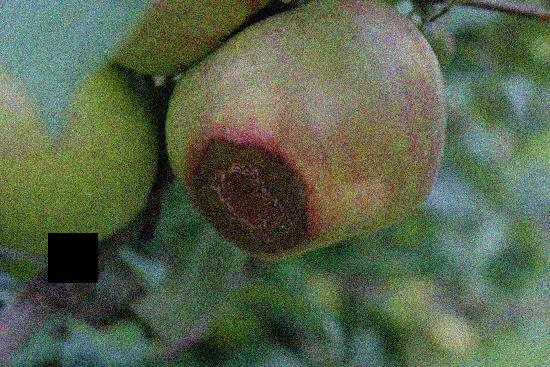rotten apple: (156, 1, 453, 265)
